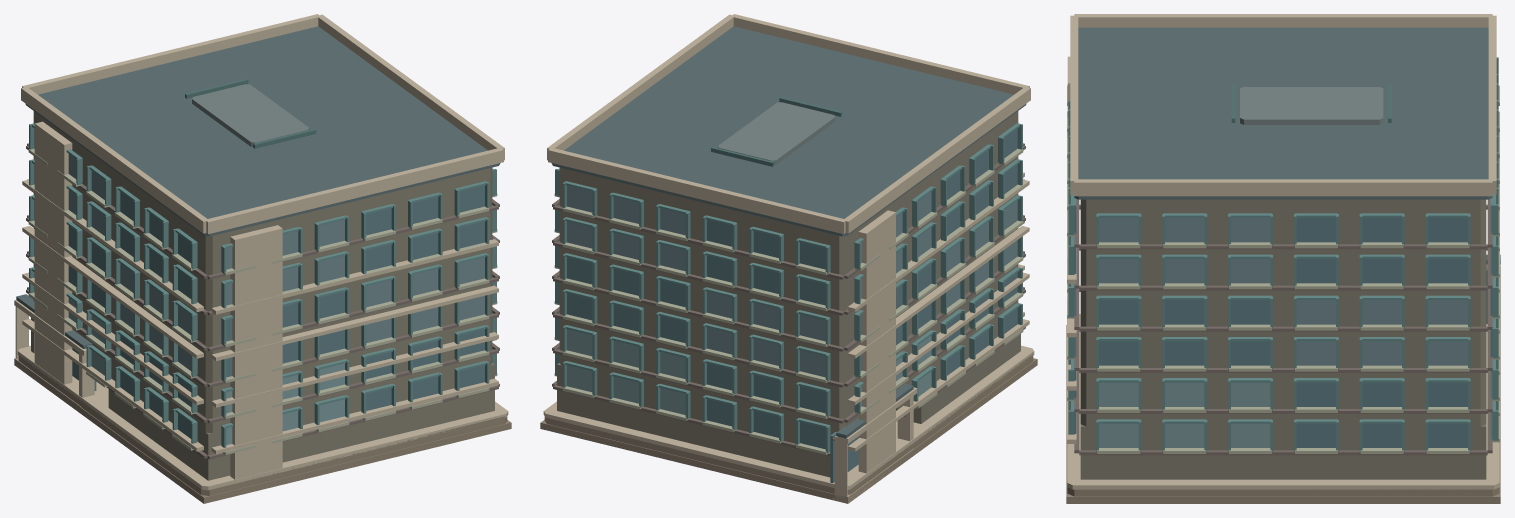
The picture shows the model from 3 angles, left to right: view 1: azimuth 30°, elevation 25°; view 2: azimuth 150°, elevation 25°; view 3: azimuth 270°, elevation 25°; orthographic projection. The views are drawn at different scales.
Parts seen in each view (by area): view 1: form, relief, glaze, glowing; view 2: form, relief, glaze, glowing; view 3: form, glaze, relief, glowing.
Boxes of the visible parts, x1,y1,x2,y2 form: form: (14, 14, 511, 503); relief: (28, 123, 497, 454); glaze: (34, 129, 484, 444); glowing: (68, 154, 484, 354); form: (540, 14, 1037, 503); relief: (554, 123, 1023, 454); glaze: (567, 128, 1017, 482); glowing: (613, 164, 1017, 343); form: (1066, 14, 1500, 503); glaze: (1074, 199, 1492, 447); relief: (1067, 57, 1499, 453); glowing: (1074, 217, 1467, 365).
Size of the model in its own units: 15 by 13 by 16.
